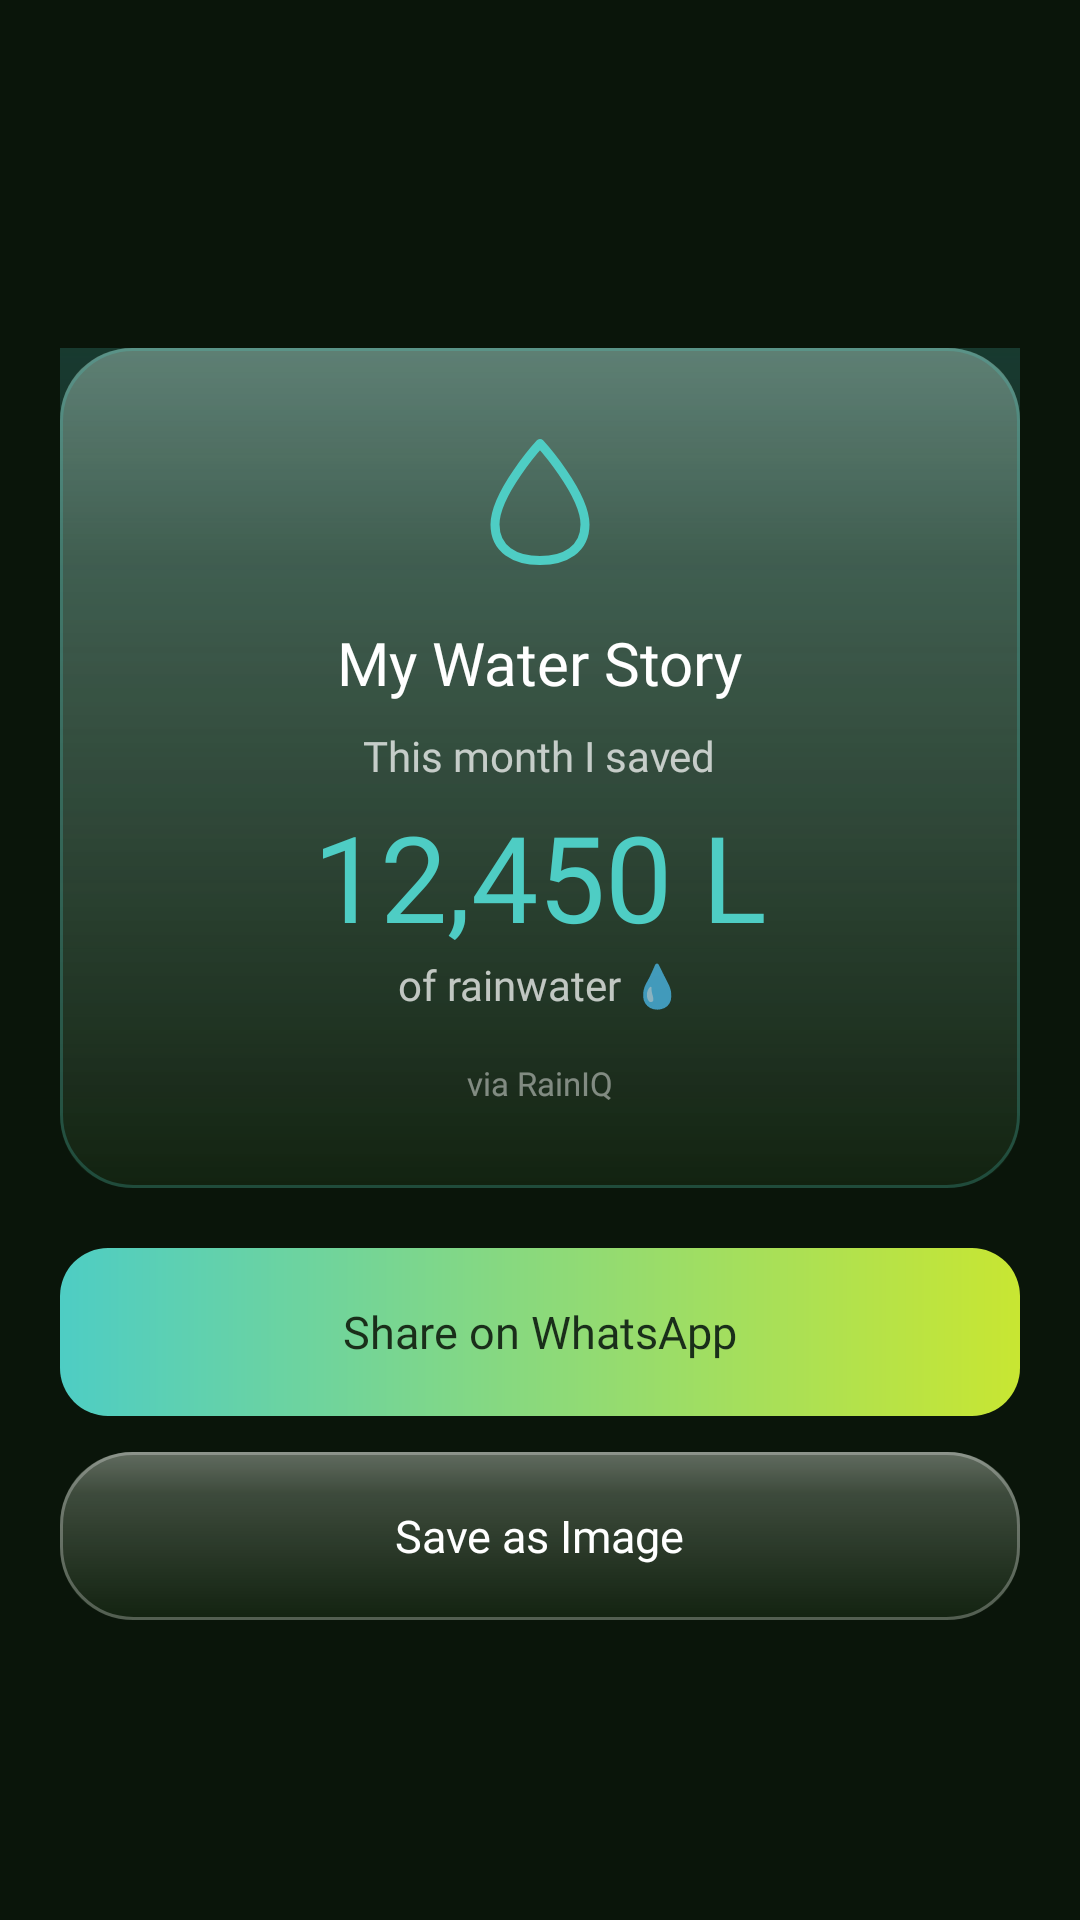

Screen size 1080px×1920px. Icon name, then its center in pixels as [x,y]:
drop: [540,506]
